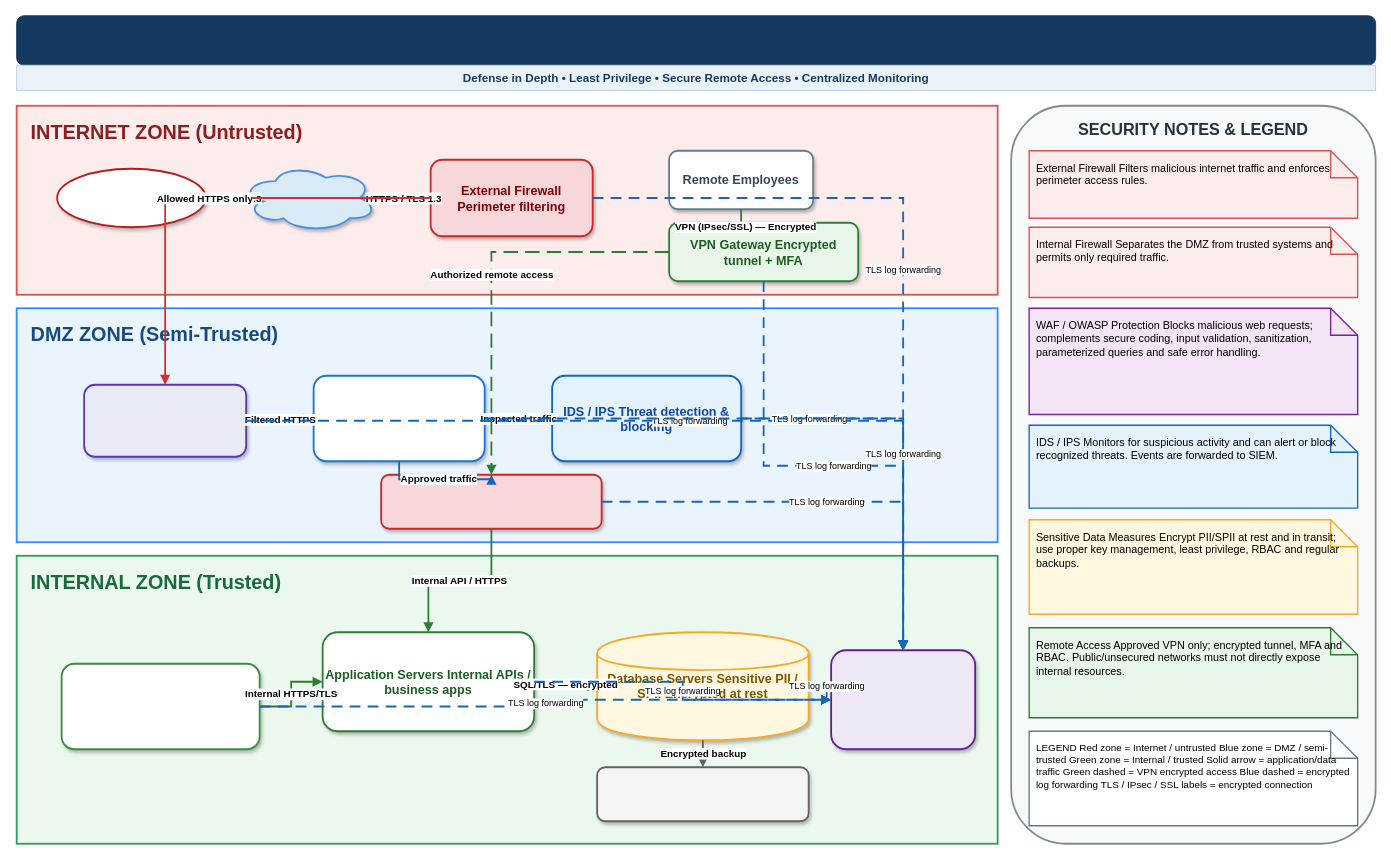
The diagram is 1391 pixels wide and 860 high, and some of its shapes have lost their labels. The shapes that lost their labels are listed below. From the top down, each one's centre as x and y in pixels, then its label:
(x=696, y=40): Jackson Corporation — Secure Network Architecture
(x=132, y=199): Customers / External Users
(x=309, y=198): Internet
(x=165, y=422): WAF Web Application Firewall
(x=399, y=419): Web Server Relocated to DMZ
(x=492, y=503): Internal Firewall DMZ ↔ Internal segmentation
(x=161, y=707): Employee Workstations RBAC • Endpoint protection
(x=903, y=700): Monitoring / SIEM Central log collection Correlation & alerts
(x=703, y=795): Backups / Recovery Protected copies
